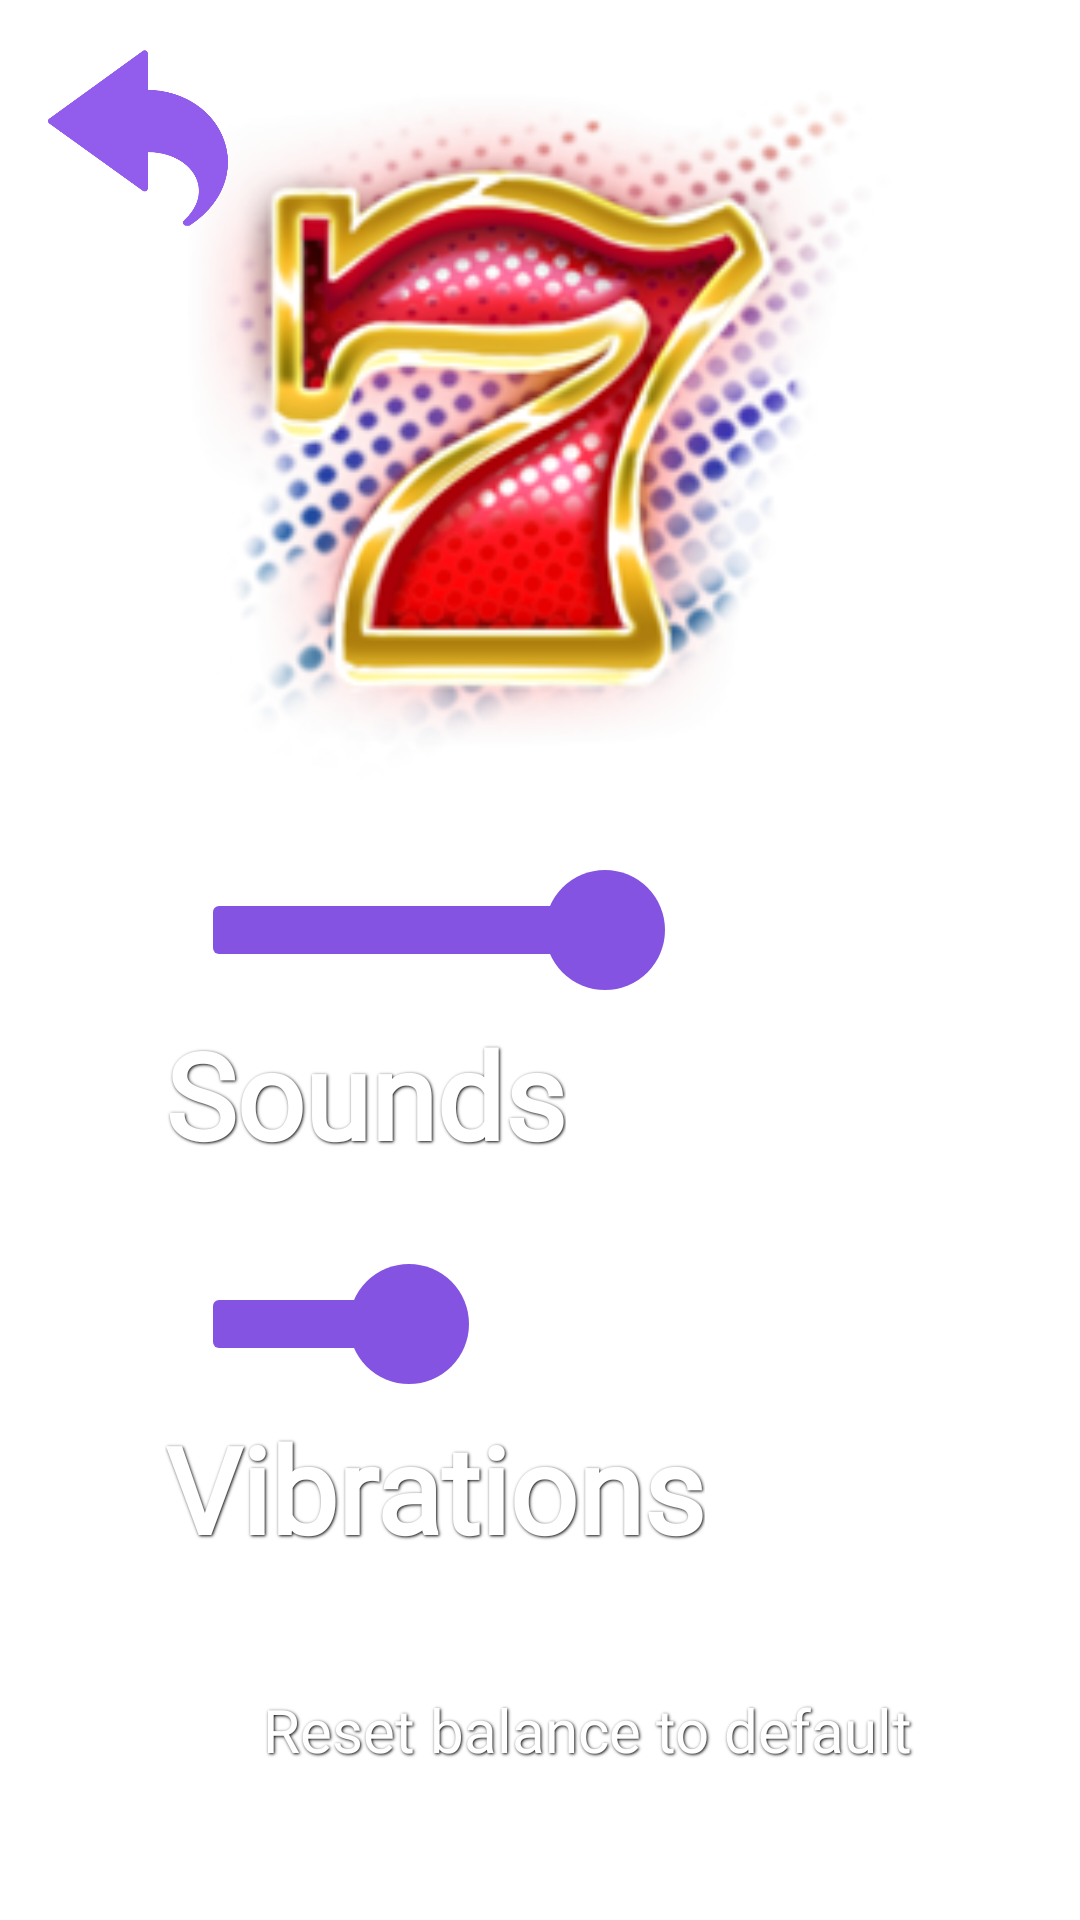

Icon click points for this 1080w x 1920h phone screenshot, format [x,y]:
back vodo: [138,138]
